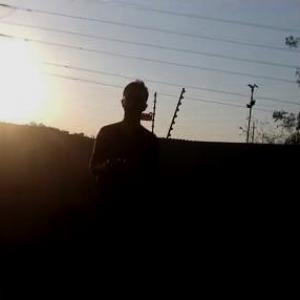follow: (83, 75, 161, 299)
